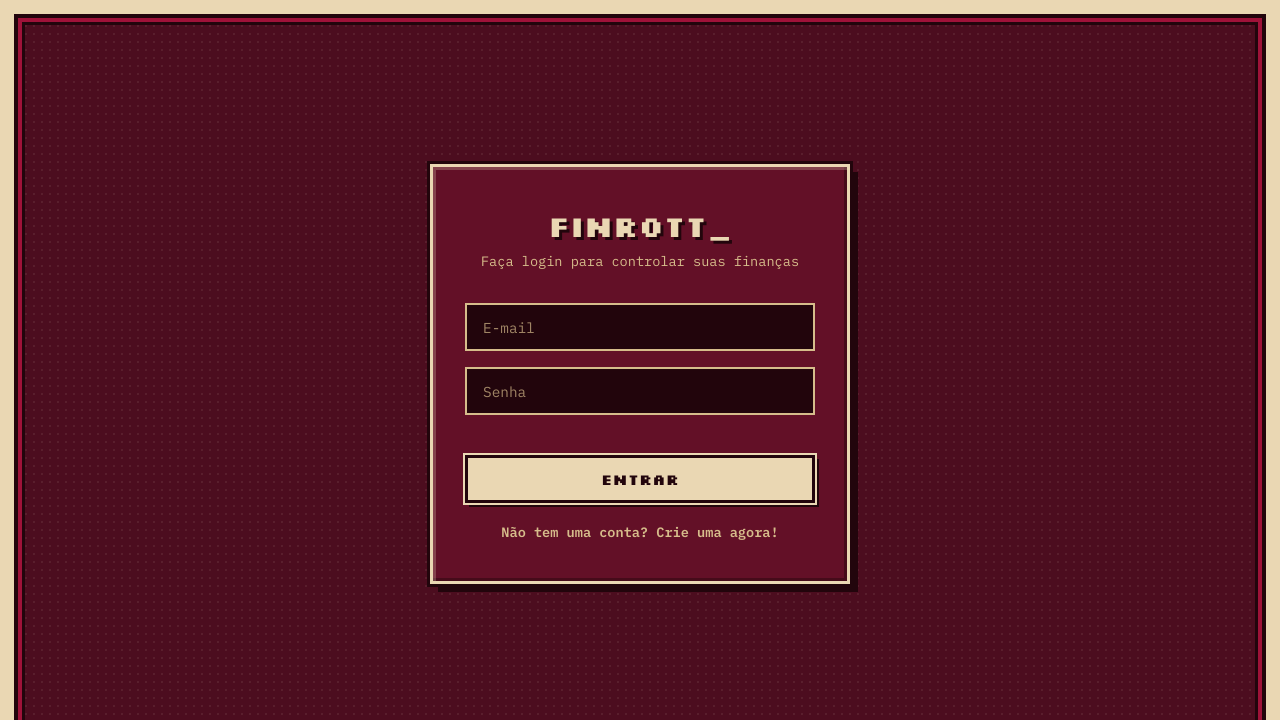
Test case: Authentication Pages & Validations › LoginPage › displays error message when submitting empty fields
This screenshot has width=1280, height=720.
Click the button "Entrar": (640, 479) [465,455,815,503]
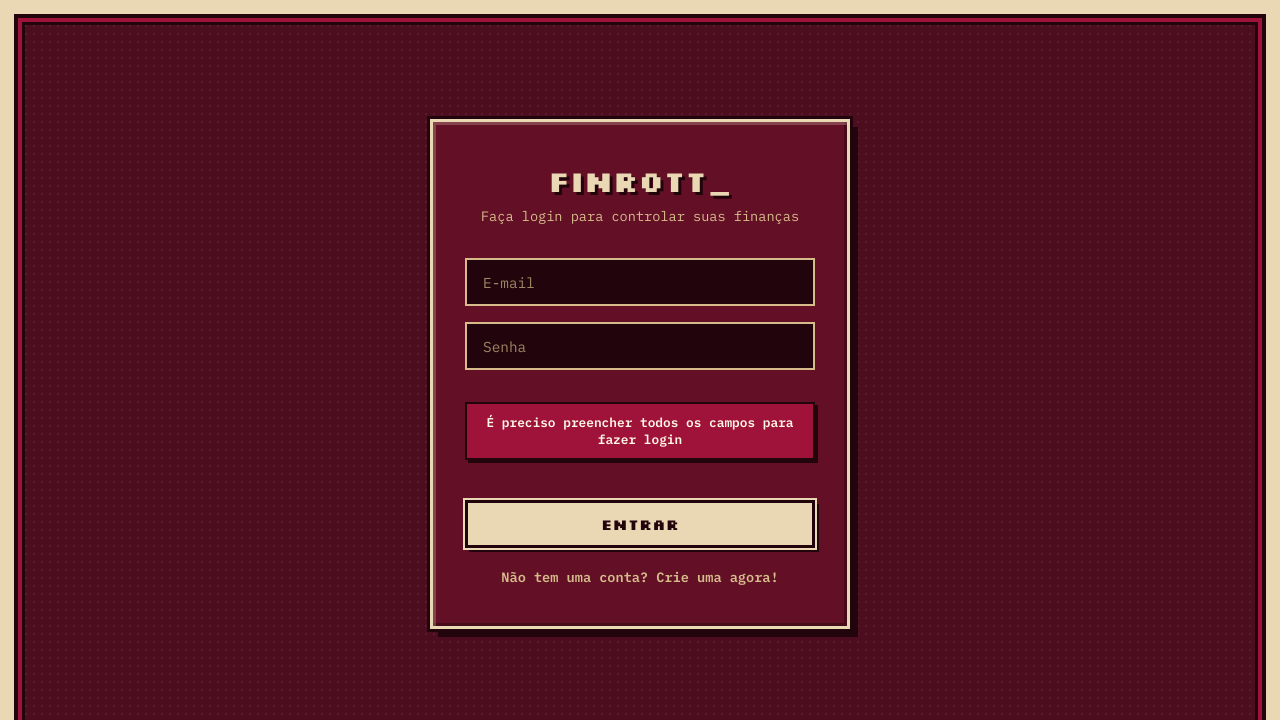
Expected: the text "É preciso preencher todos os campos para fazer login" is shown, [465,402,815,460]
